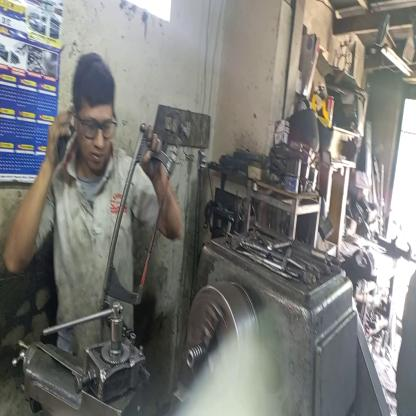lentes: (72, 108, 120, 142)
